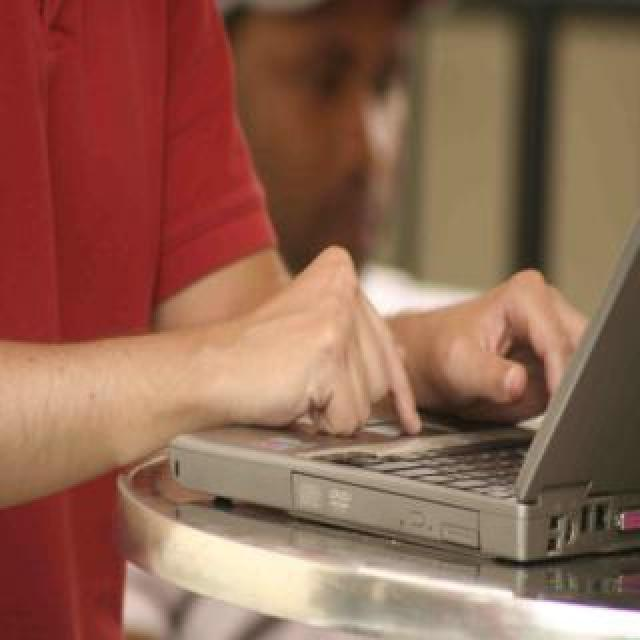laptop_computer: (173, 200, 640, 555)
